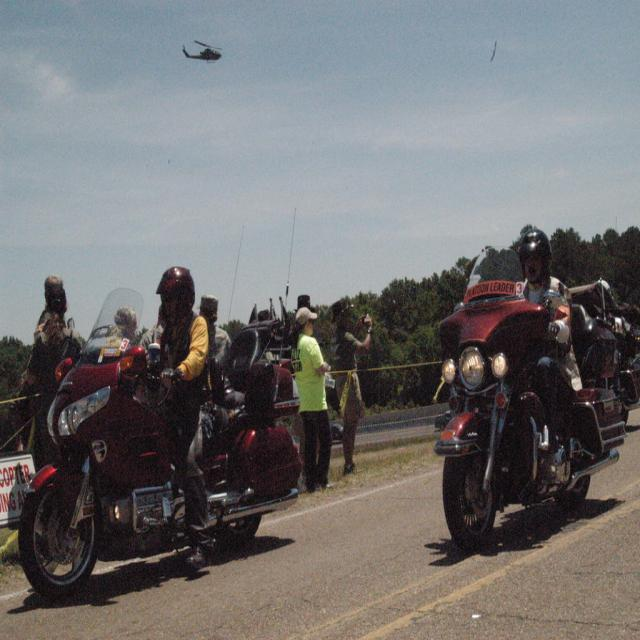Motorbikes: (17, 290, 306, 604), (434, 252, 634, 545)
